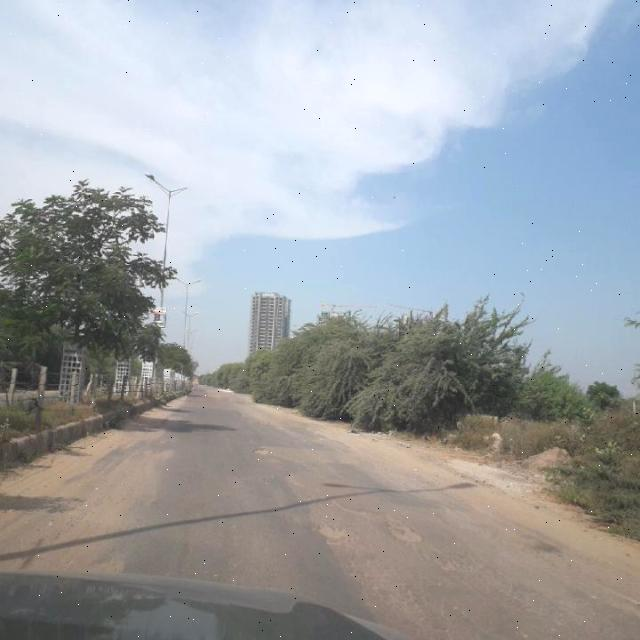D20: (324, 509, 640, 639)
D40: (383, 509, 429, 551), (314, 519, 356, 549), (444, 551, 486, 581), (95, 552, 137, 581), (253, 434, 274, 460)
